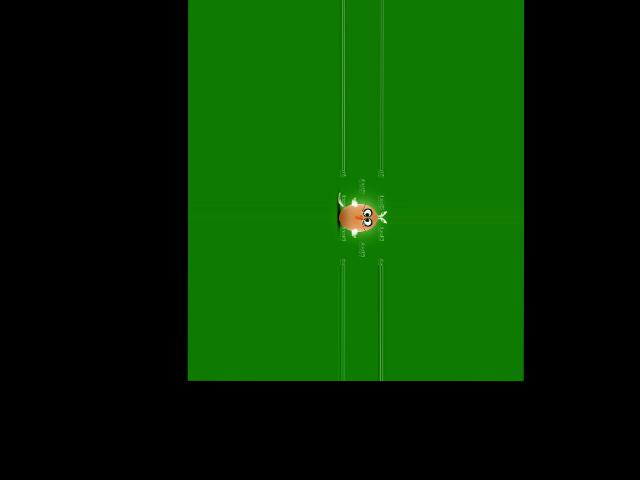egg: (338, 203, 377, 231)
